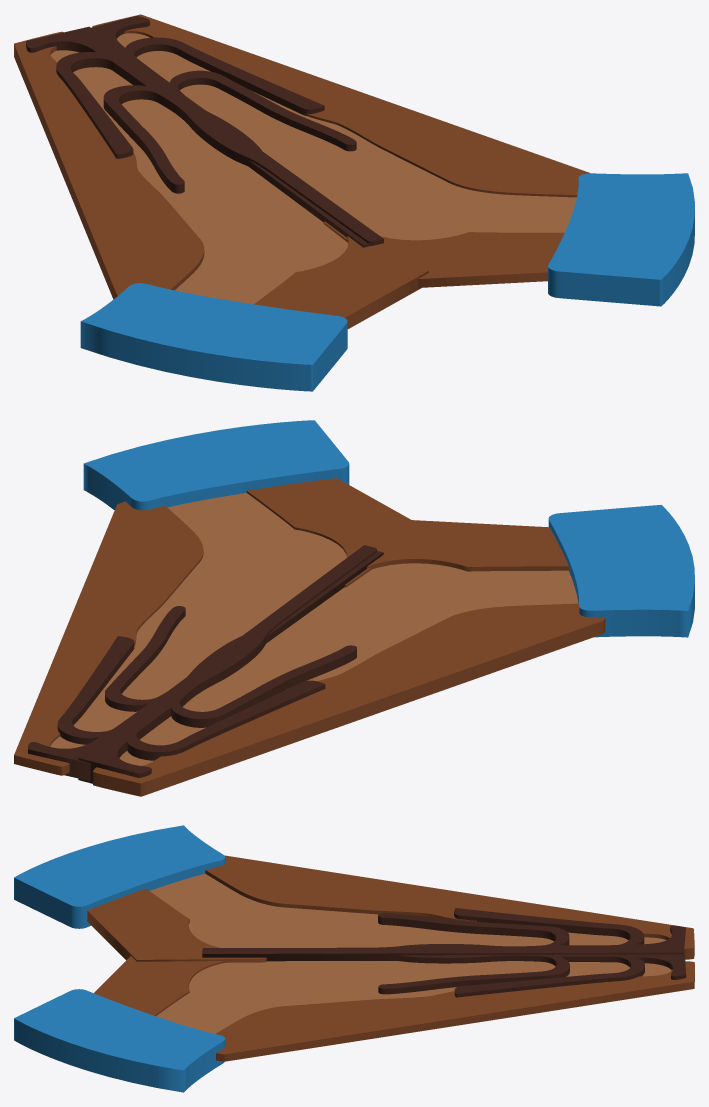
File: emoji_u1f64f_1f3fe.glb
3 renders of one model, top to bottom at view 1: azimuth 30°, elevation 25°; view 2: azimuth 150°, elevation 25°; view 3: azimuth 270°, elevation 25°, orthographic. The views are drawn at different scales.
Visible parts, largest first — view 1: emoji_u1f64f_1f3fe; view 2: emoji_u1f64f_1f3fe; view 3: emoji_u1f64f_1f3fe.
Boxes of the visible parts, x1,y1,x2,y2 form: emoji_u1f64f_1f3fe: [14, 14, 694, 391]; emoji_u1f64f_1f3fe: [14, 420, 694, 796]; emoji_u1f64f_1f3fe: [14, 825, 694, 1092].
Bounding box in the file's own units: 0.0286 × 0.0012 × 0.0335.
